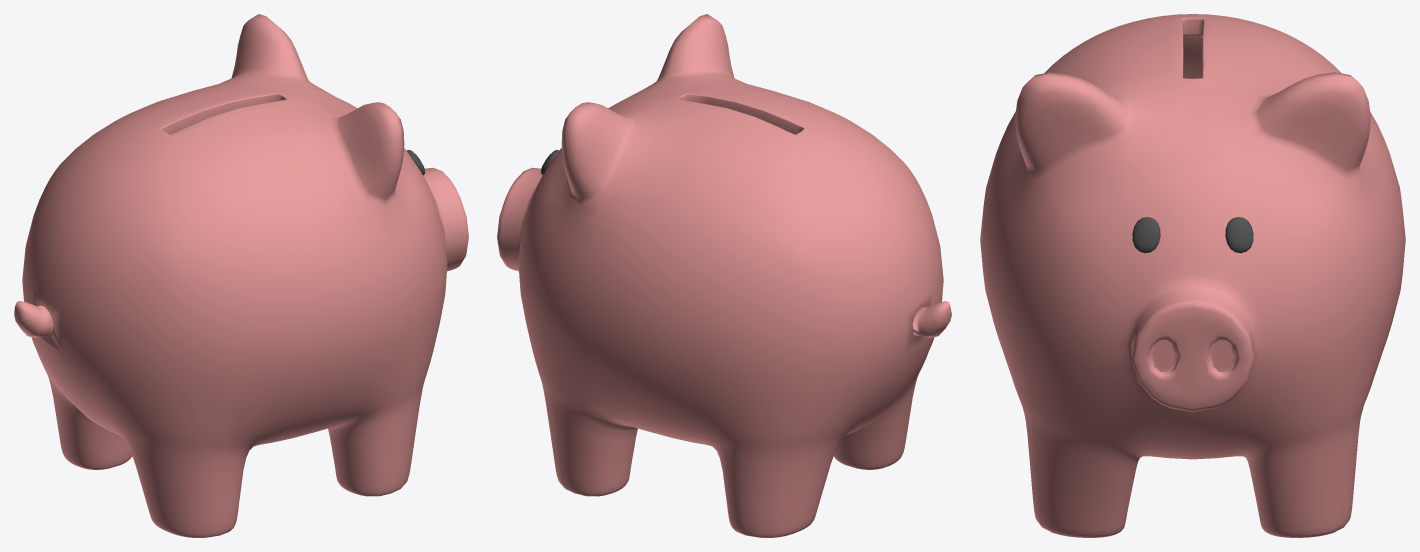
File: Piggy_Bank1.fbx
3 renders of one model, left to right at view 1: azimuth 30°, elevation 25°; view 2: azimuth 150°, elevation 25°; view 3: azimuth 270°, elevation 25°, orthographic. The views are drawn at different scales.
Parts seen in each view (by area): view 1: piggy_bank_Mesh; view 2: piggy_bank_Mesh; view 3: piggy_bank_Mesh.
Boxes of the visible parts, bbox=[...] form: piggy_bank_Mesh: bbox=[14, 14, 468, 537]; piggy_bank_Mesh: bbox=[497, 14, 951, 537]; piggy_bank_Mesh: bbox=[980, 14, 1405, 537].
Bounding box in the file's own units: 245 × 209 × 180.
